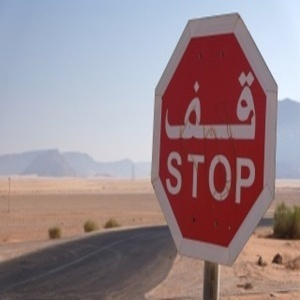stop: (154, 13, 274, 266)
